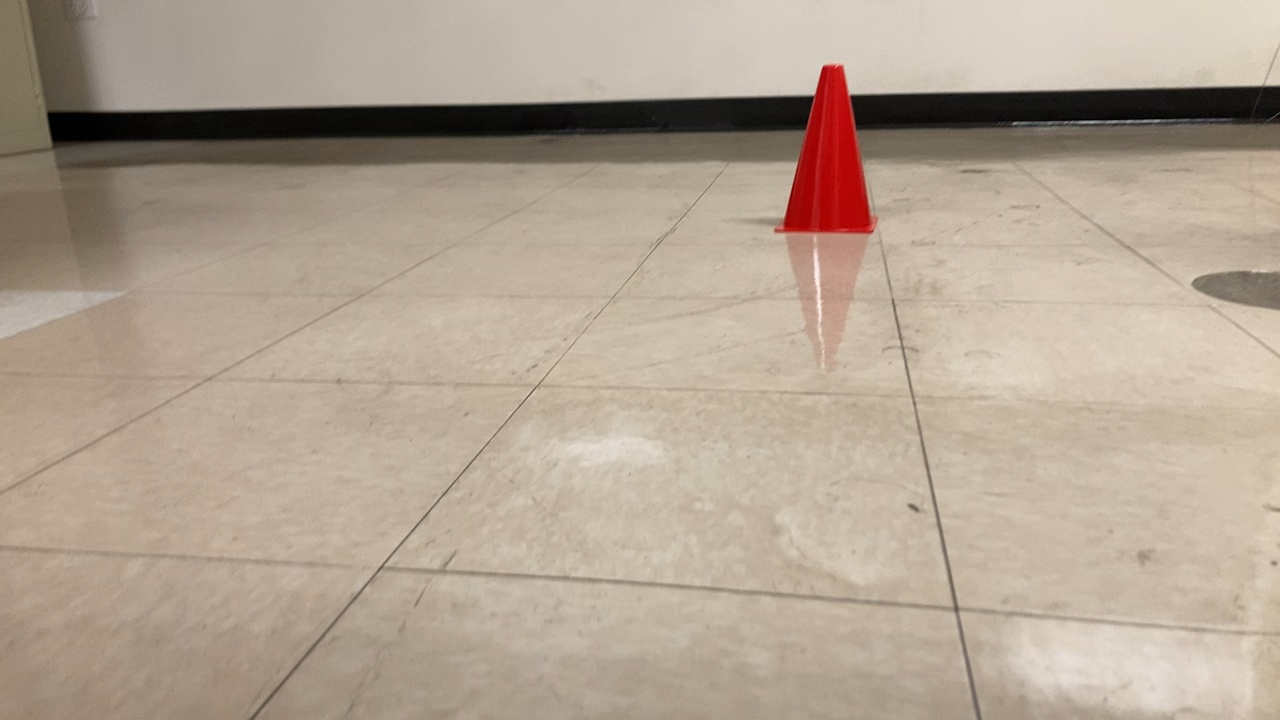red_cone: (767, 60, 887, 245)
